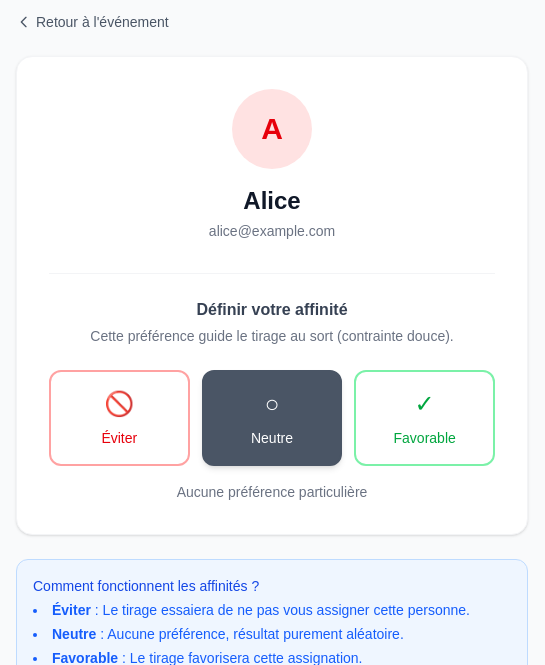
Test: AffinityPage › shows 🚪 and join prompt for membership errors
The image size is (545, 665).
Expected: the heading "Alice" is shown, [243,185,301,217]
Click the button "✓ Favorable": (425, 418) [354,370,495,466]
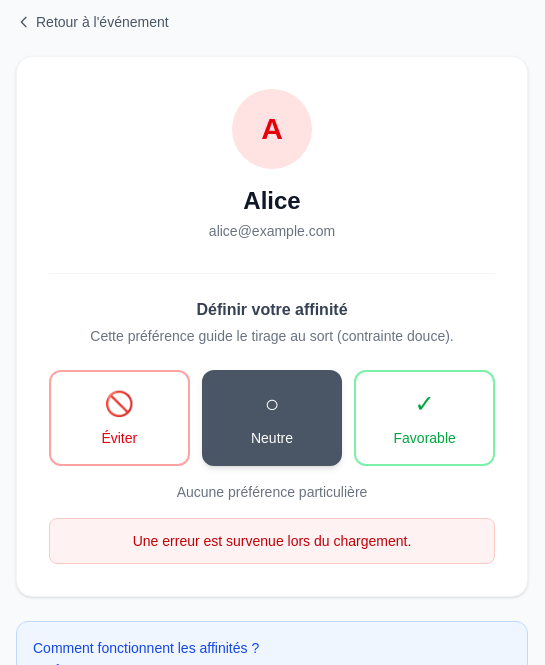
Expected: the text "Vous n'êtes pas un participant accepté de cet événement." is shown, [49,518,495,564]
